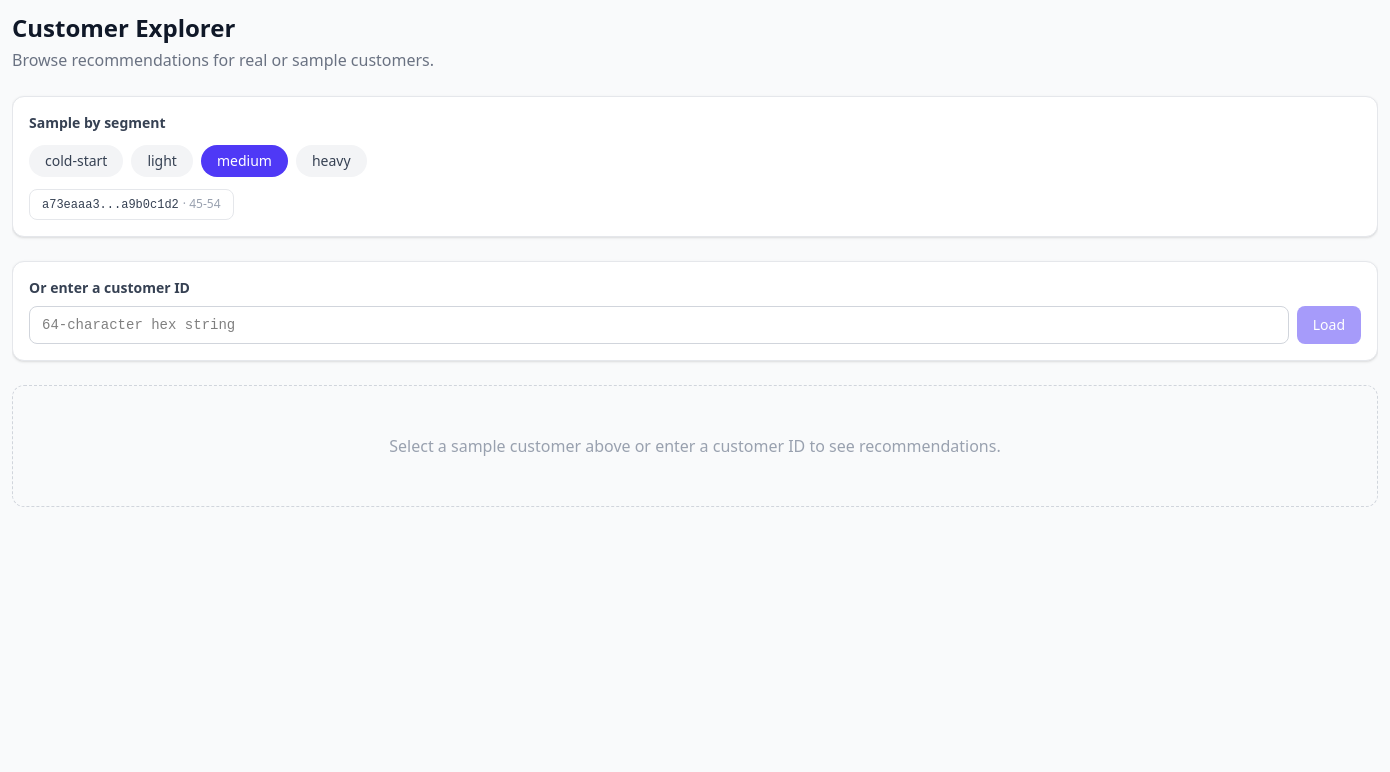
CustomerExplorer page › shows recommendations after selecting customer
This screenshot has width=1390, height=772.
Click the button "a73eaaa3...a9b0c1d2· 45-54": (131, 204) x1=29 y1=189 x2=234 y2=220
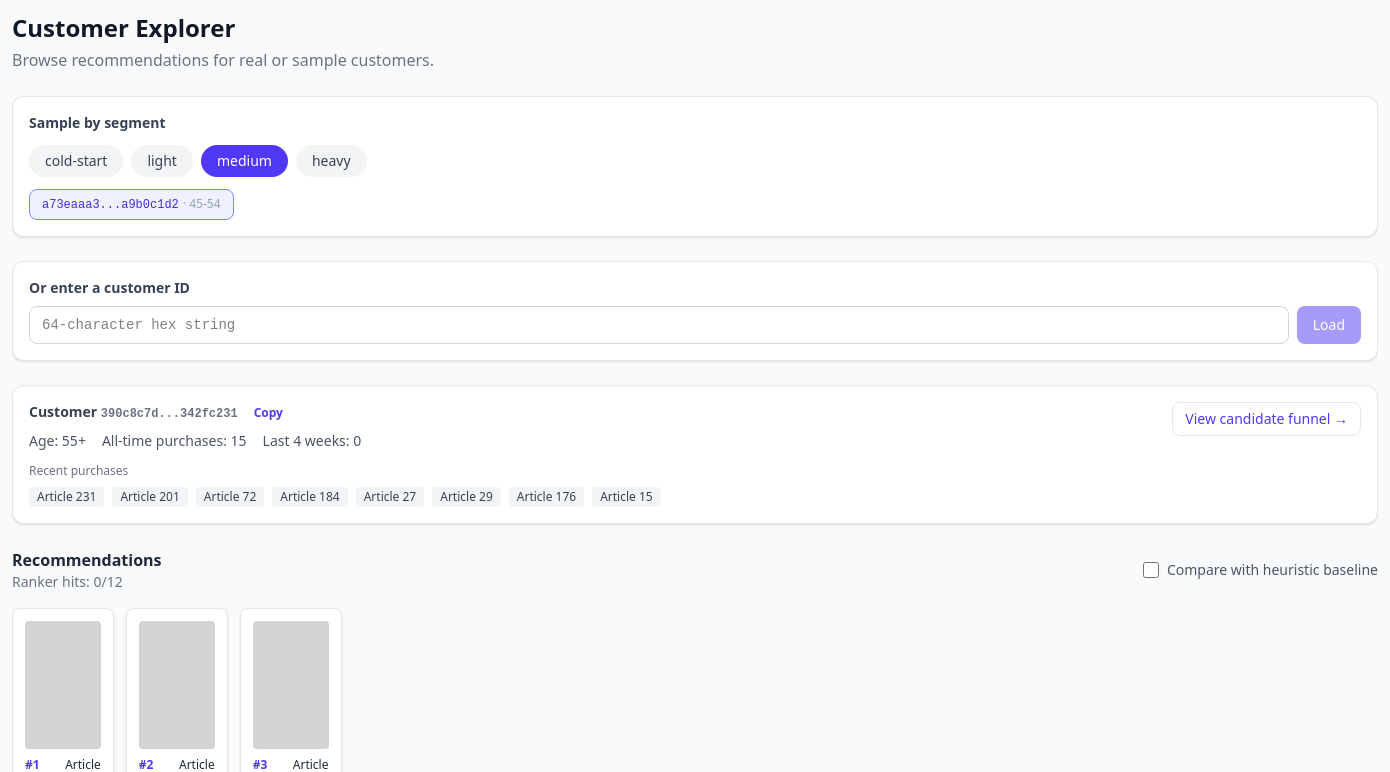
Expected: the text "Article 231" is shown, x1=37 y1=488 x2=96 y2=505
